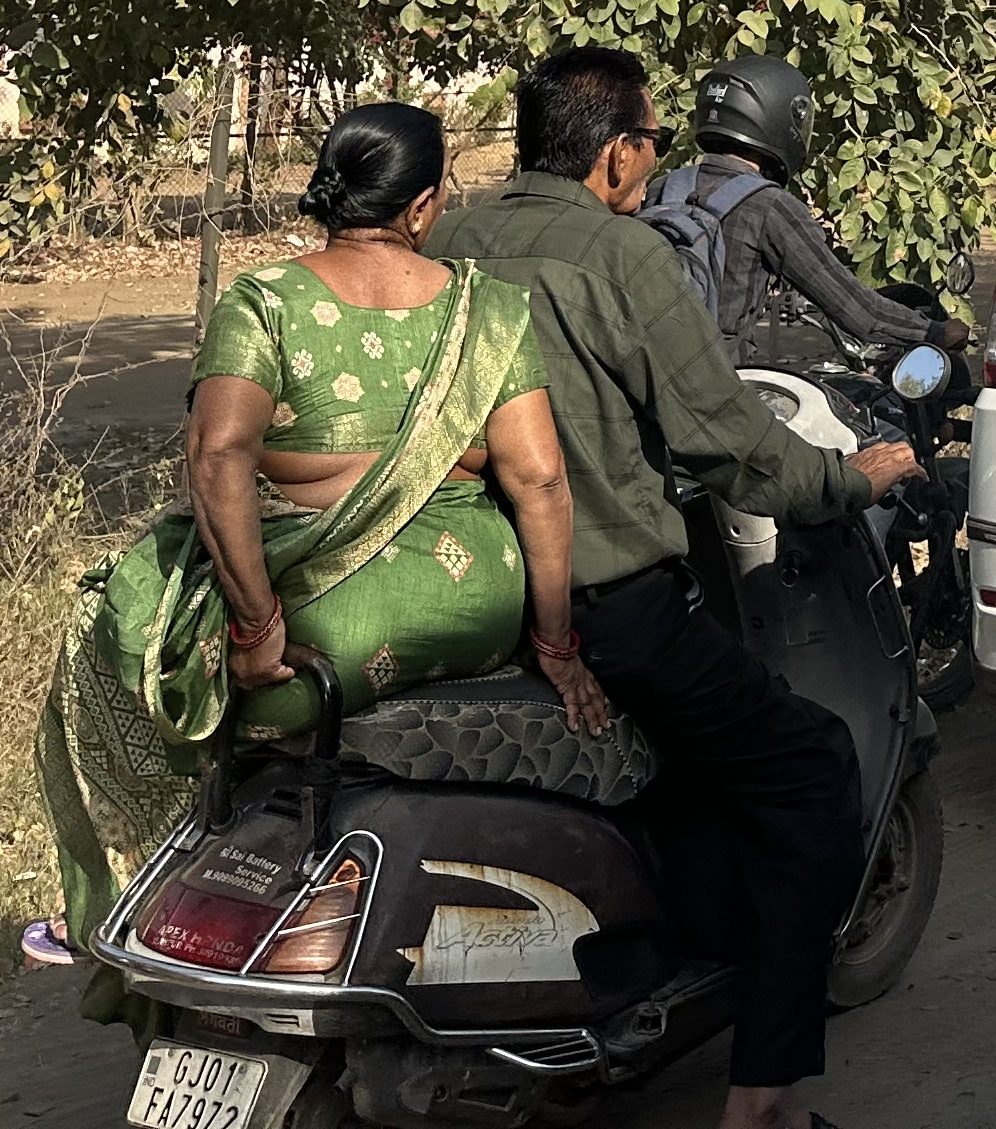BikeWithRider: (14, 33, 957, 1129), (623, 43, 993, 713)
Helmet: (683, 43, 841, 192)
NoHelmet: (495, 40, 675, 222), (285, 90, 472, 259)
